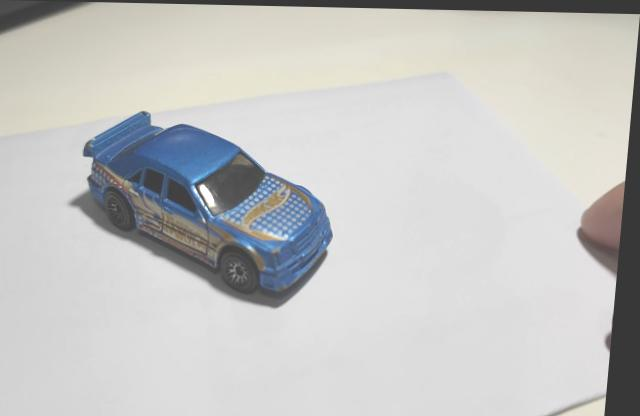04_MERZEDES: (85, 112, 338, 309)
